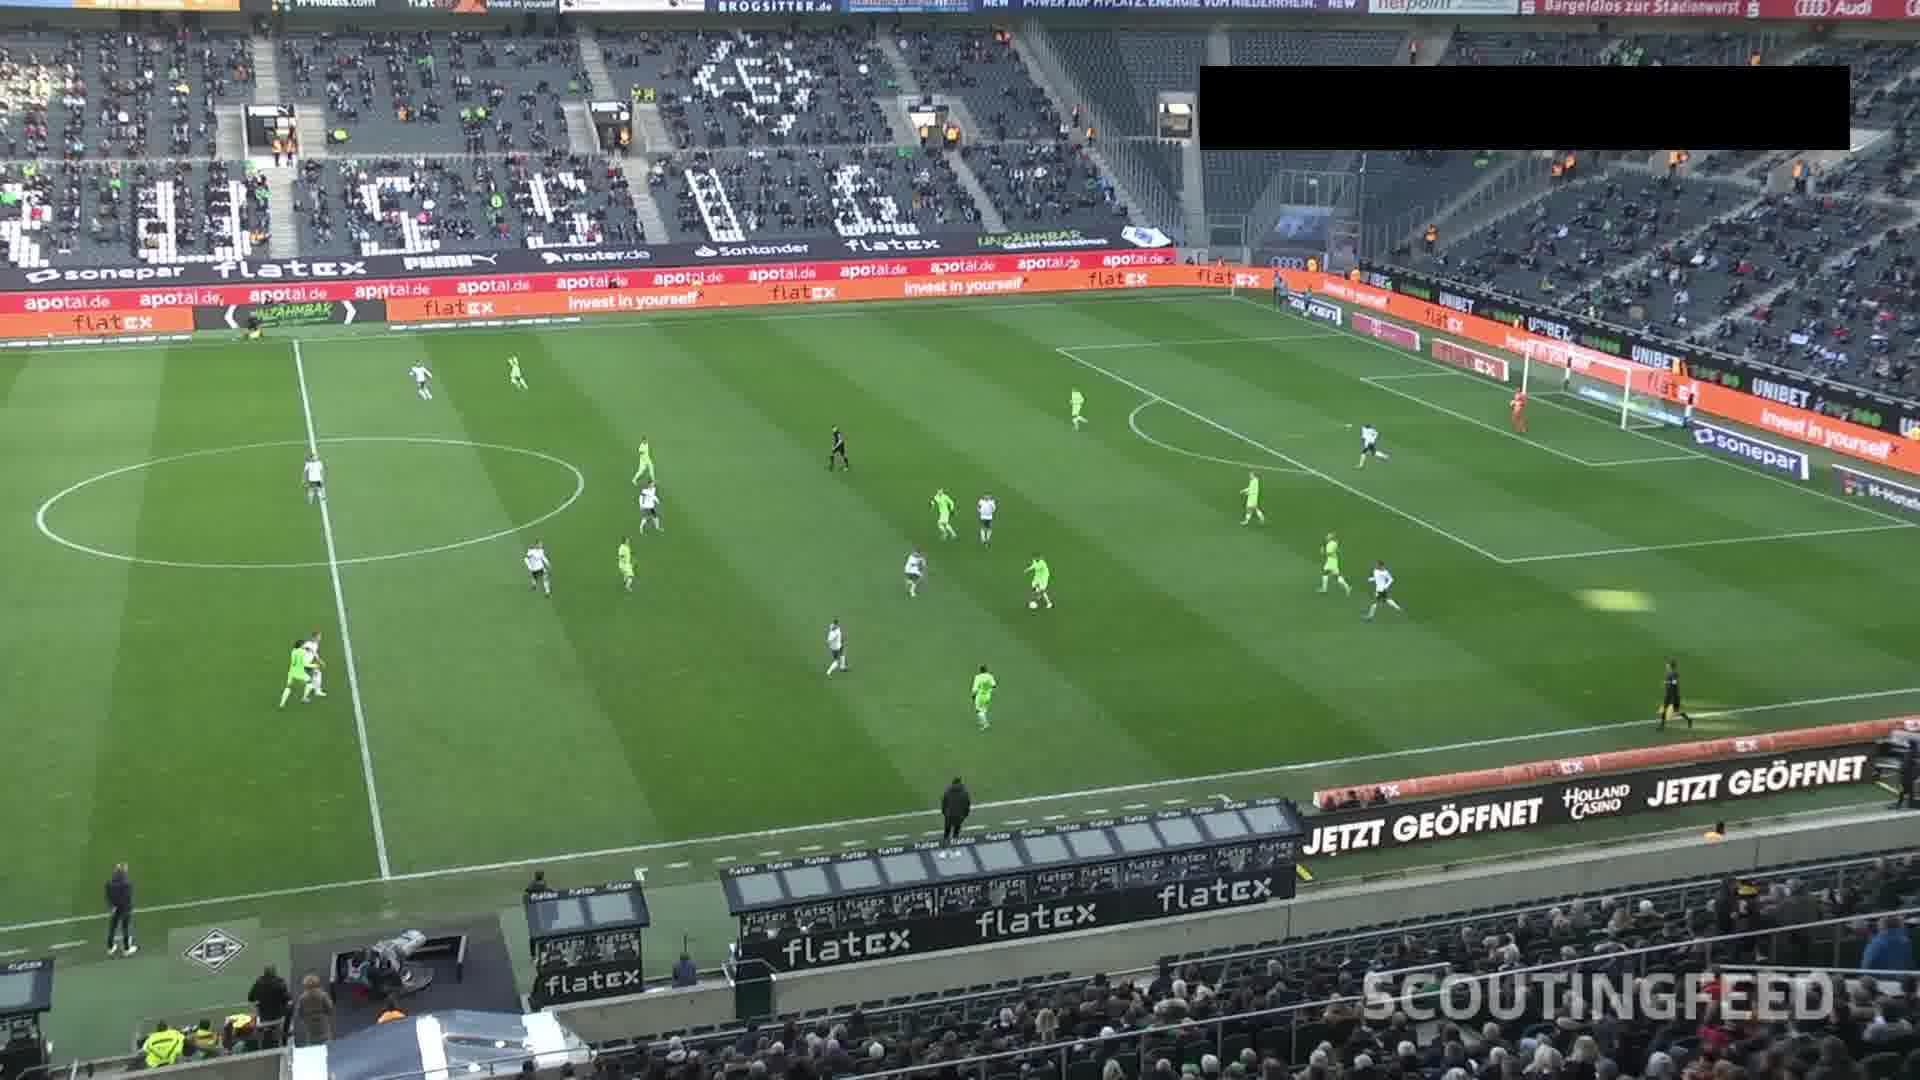football: (1029, 600, 1039, 611)
